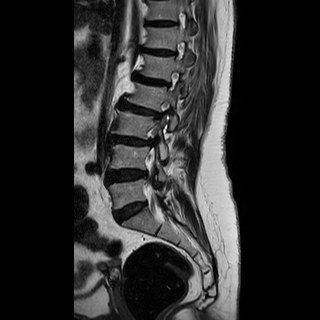RFS0: (163, 68, 183, 96)
